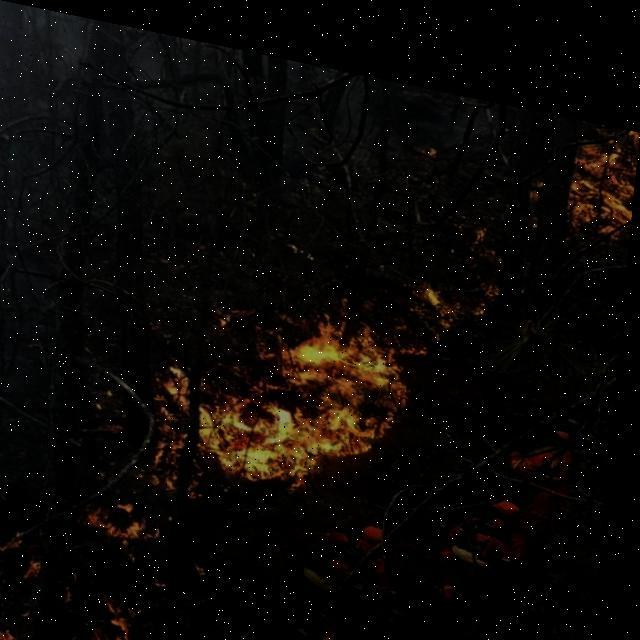Fire: (121, 211, 493, 510), (0, 592, 144, 639), (562, 111, 627, 205), (89, 489, 170, 538)
